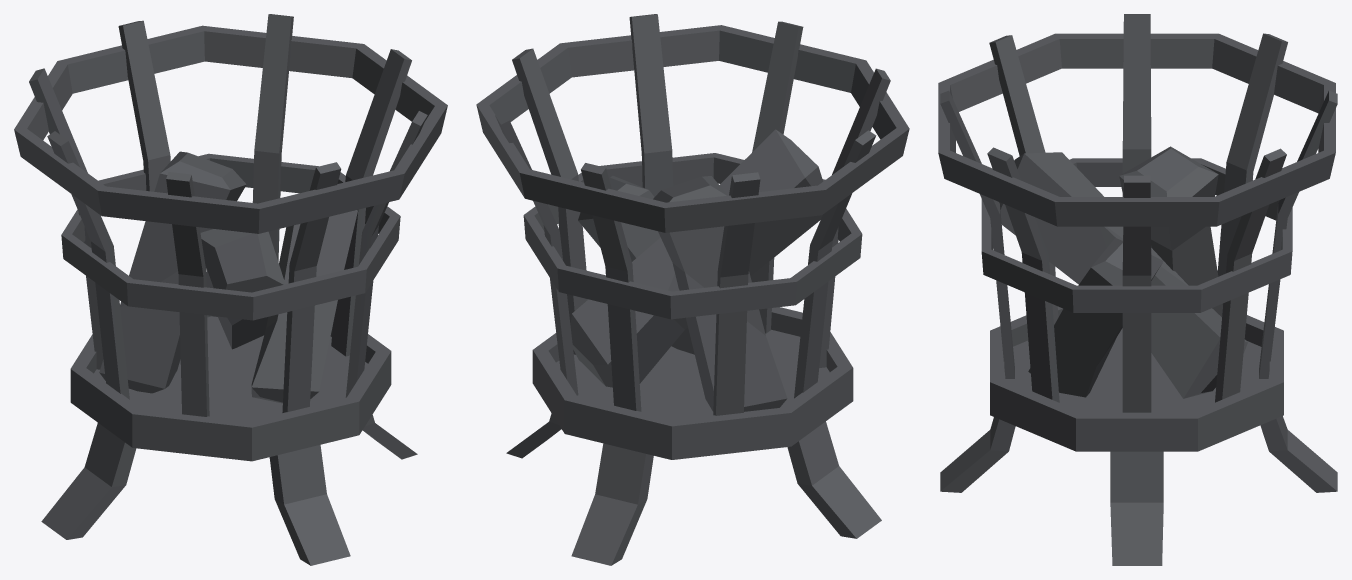
The model's file is castle_brazier.gltf.
The picture shows the model from 3 angles, left to right: view 1: azimuth 30°, elevation 25°; view 2: azimuth 150°, elevation 25°; view 3: azimuth 270°, elevation 25°; orthographic projection.
Visible parts, largest first — view 1: castle_brazier; view 2: castle_brazier; view 3: castle_brazier.
Part boxes in pixels (box(x1,y1,x2,y2)): castle_brazier: box(14, 14, 447, 565); castle_brazier: box(476, 14, 909, 565); castle_brazier: box(938, 14, 1337, 565).
Size of the model in its own units: 0.5543 by 0.5934 by 0.554.
1 material, 1 textured.
